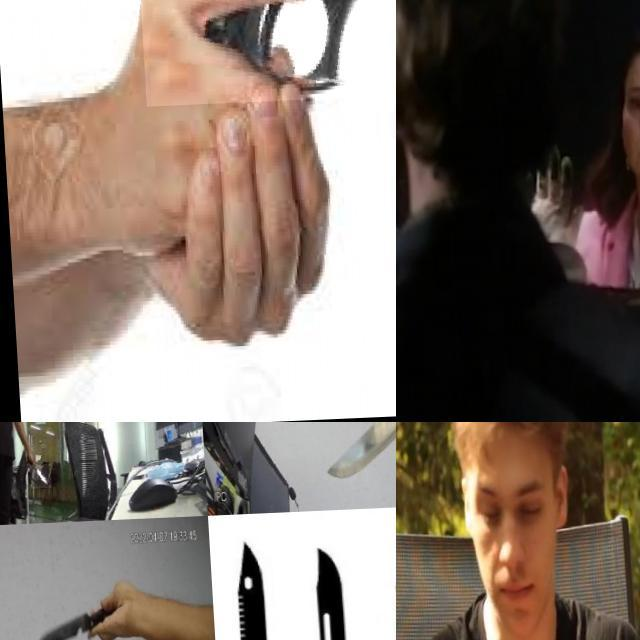-: (215, 544, 297, 640), (296, 540, 353, 640), (318, 422, 396, 483), (18, 597, 113, 640), (26, 466, 48, 490)
gun-knife-thesis - v11 Yolov5 augmented: (129, 0, 396, 155), (396, 152, 469, 341)
